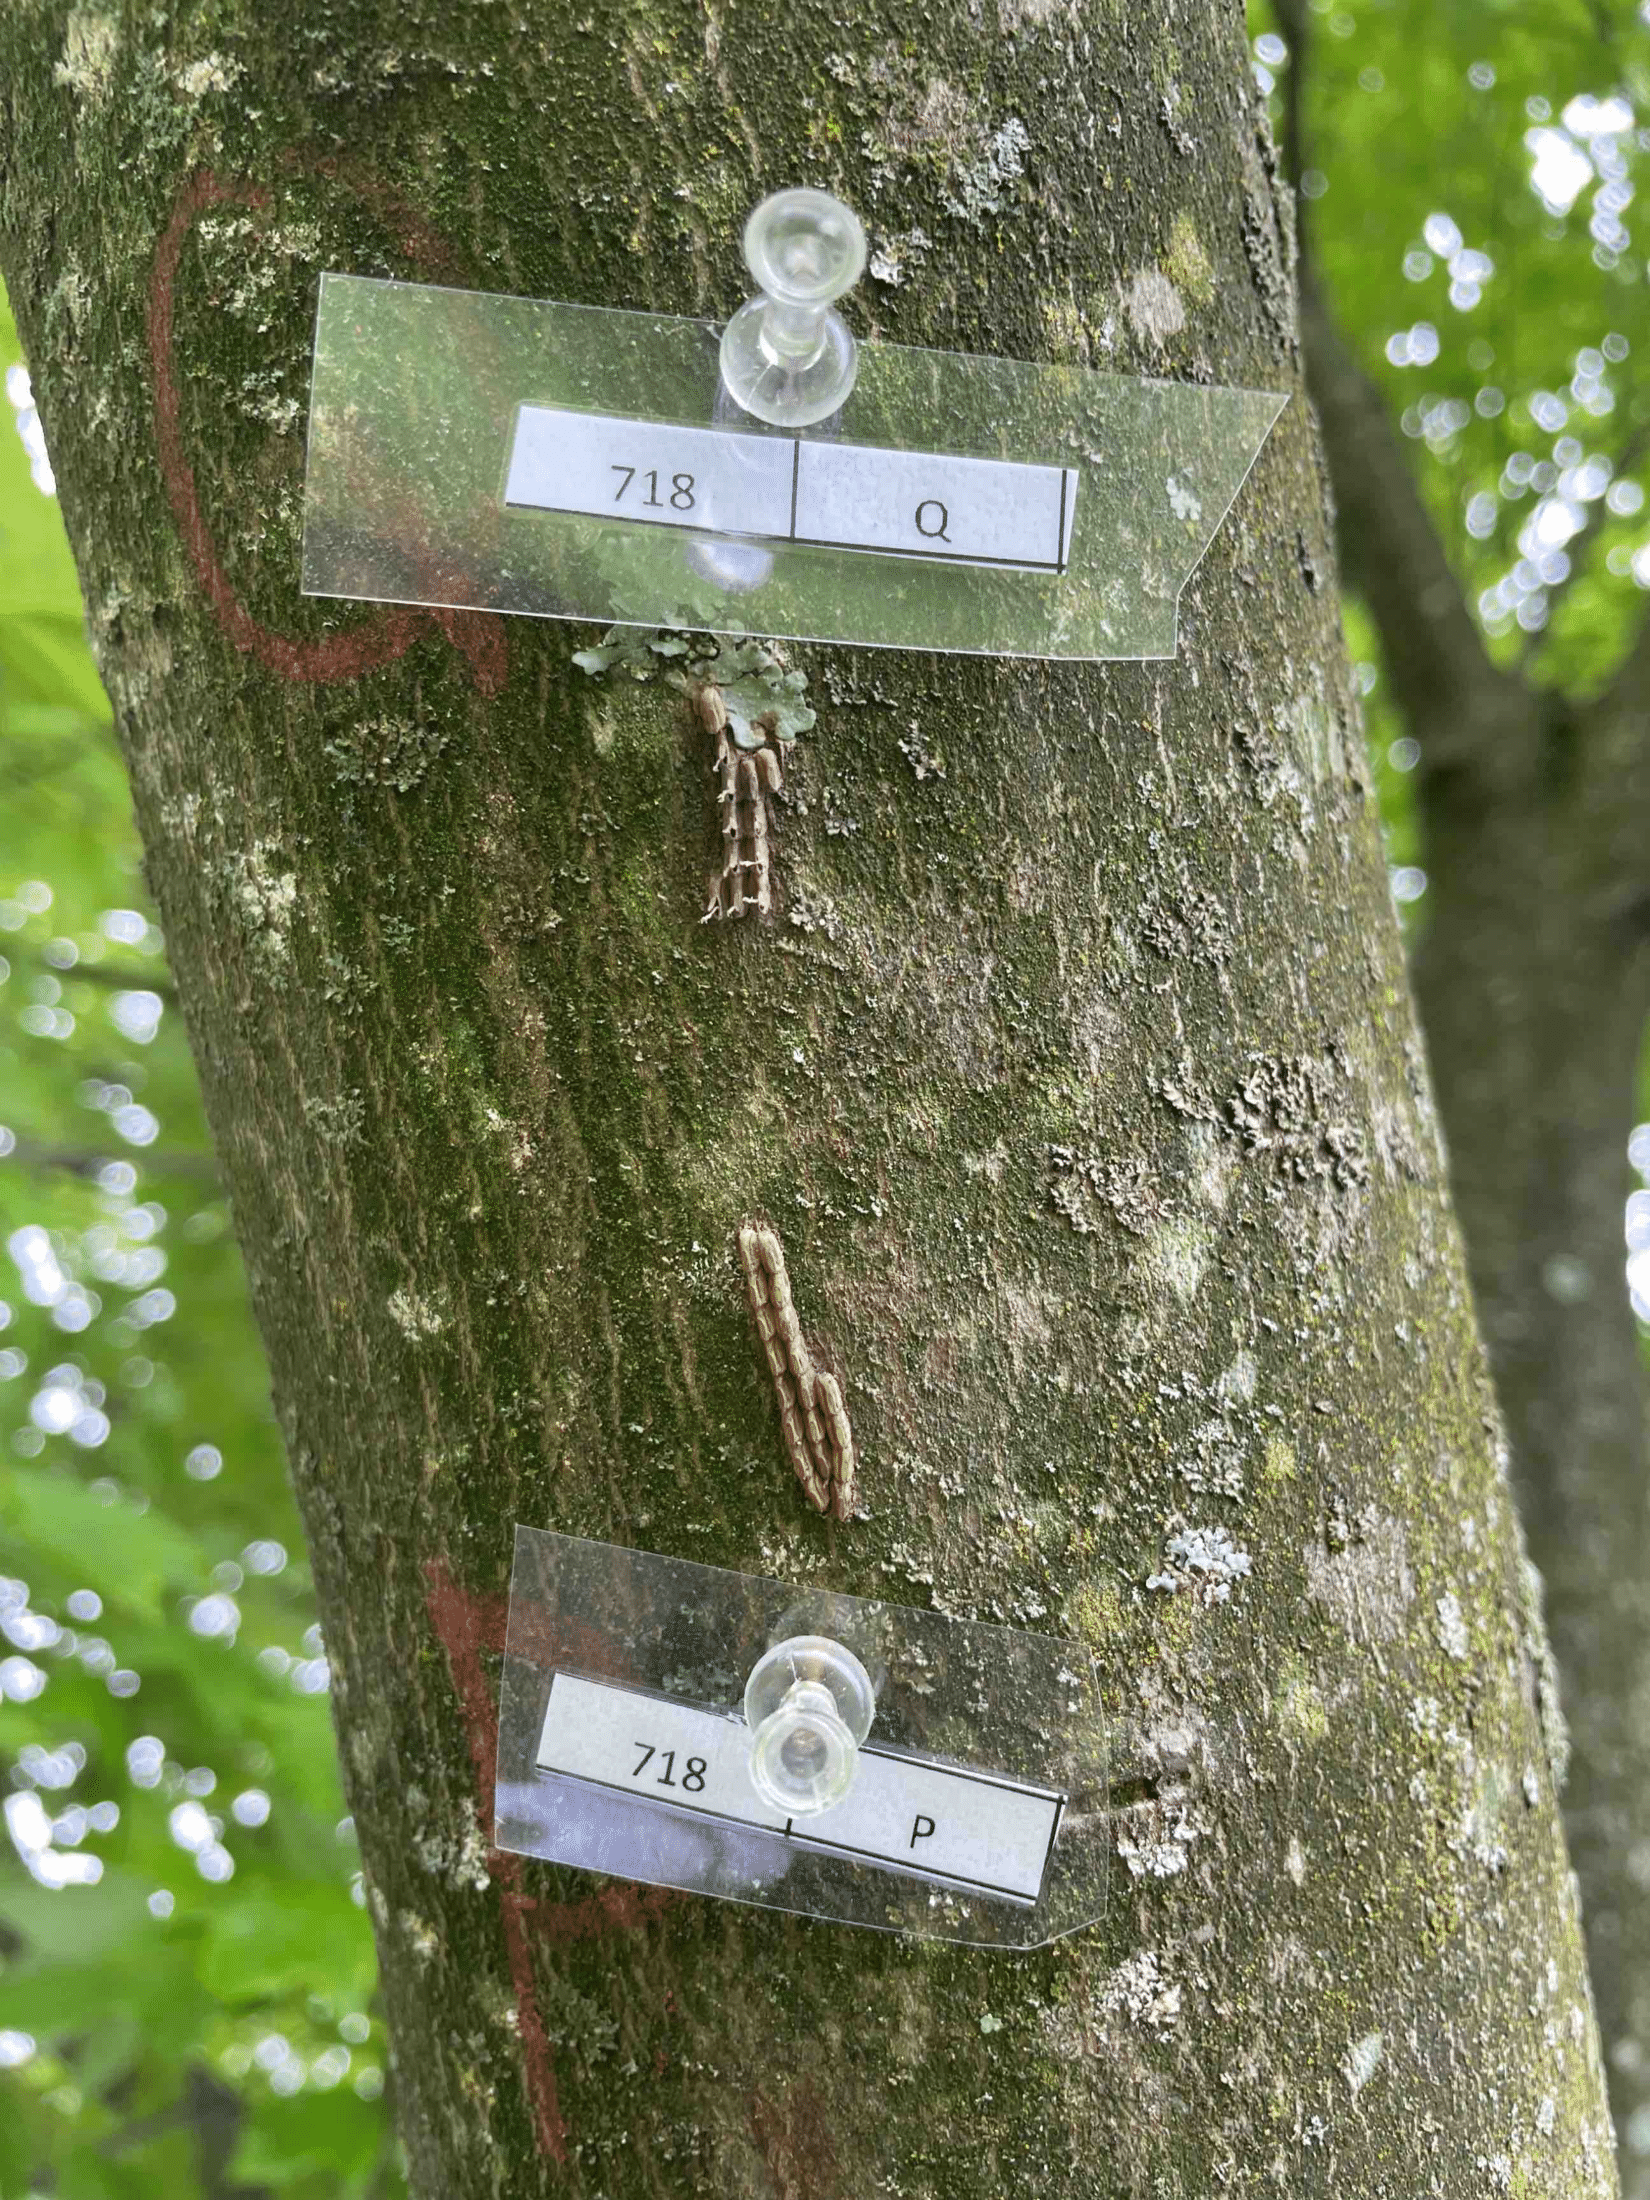egg masses: (664, 1164, 945, 1576), (646, 650, 809, 934)
